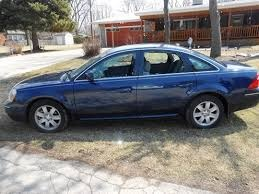Broken-glass: (83, 52, 137, 81), (141, 50, 186, 75)
